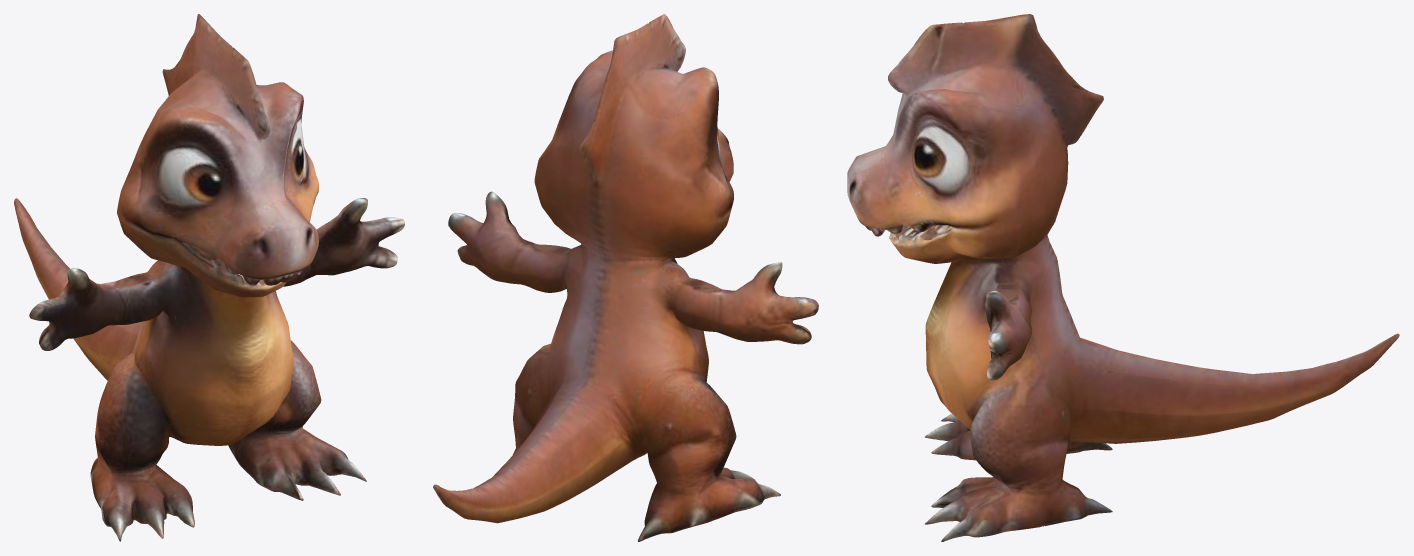
3 views of the same model, side by side, from view 1: azimuth 30°, elevation 25°; view 2: azimuth 150°, elevation 25°; view 3: azimuth 270°, elevation 25° (orthographic).
Parts seen in each view (by area): view 1: char1; view 2: char1; view 3: char1.
Boxes of the visible parts, left/top/right/bottom form: char1: left=14, top=14, right=404, bottom=541; char1: left=433, top=14, right=818, bottom=541; char1: left=847, top=14, right=1399, bottom=541.
Bounding box in the file's own units: 0.0151 × 0.0179 × 0.0192.
1 material, 1 textured.
